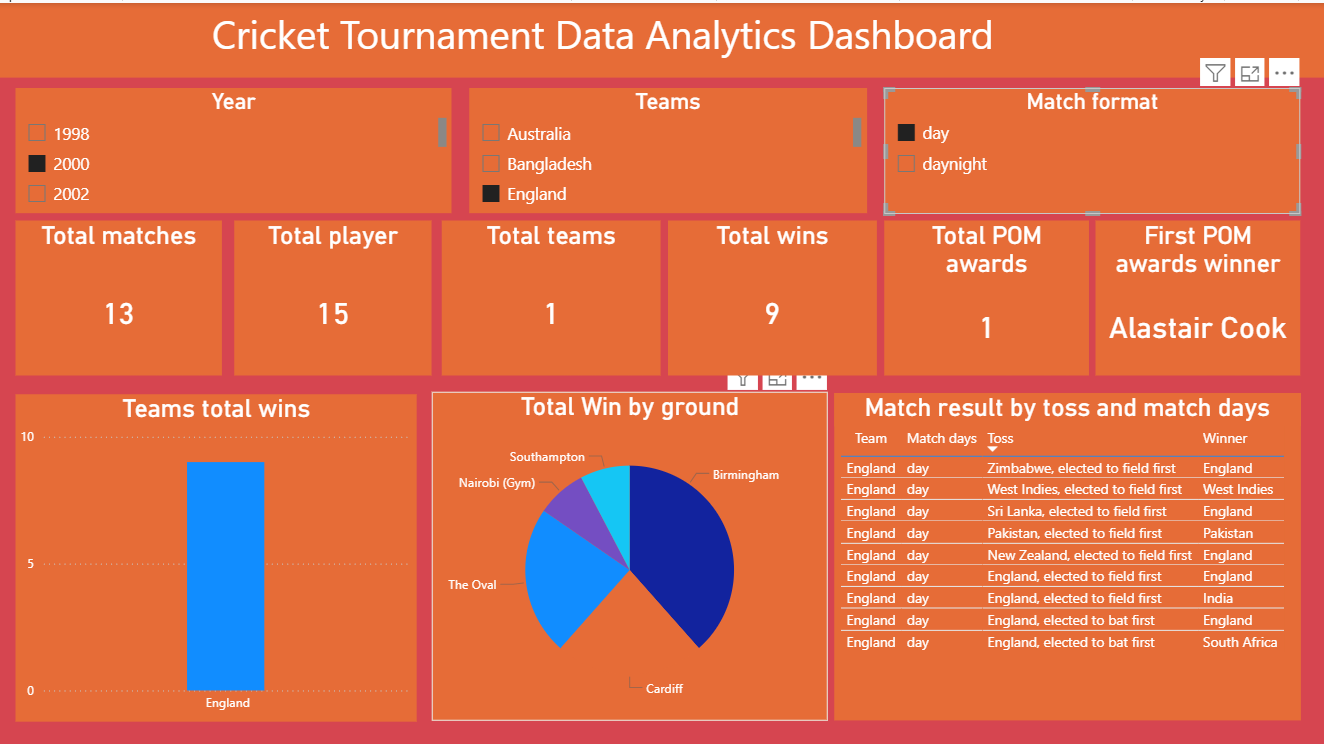

This screenshot's page, from the dashboard's own definition file:
{"tool":"powerbi","page":{"name":"Page 1","canvas":[1280,720],"ordinal":0},"visuals":[{"type":"card","title":"Total matches","fields":{"Values":["all_champions_trophy_matches_results-updated.Total matches"]},"box":[16.9,209.9,199.1,149.6],"z":0},{"type":"card","title":"Total teams","fields":{"Values":["all_champions_trophy_matches_results-updated.Total team"]},"box":[428.3,209.9,211.1,149.6],"z":1000},{"type":"card","title":"Total POM awards","fields":{"Values":["all_champions_trophy_matches_results-updated.Total player of match"]},"box":[855.4,209.9,197.9,149.6],"z":2000},{"type":"card","title":"Total player","fields":{"Values":["all_champions_trophy_matches_results-updated.Total players"]},"box":[228,209.9,190.6,149.6],"z":3000},{"type":"pieChart","title":"Total Win by ground","fields":{"Category":["all_champions_trophy_matches_results-updated.Ground"],"Y":["CountNonNull(all_champions_trophy_matches_results-updated.Winner)"]},"box":[418.6,375.2,382.4,317.3],"z":4000},{"type":"slicer","title":"Teams","fields":{"Values":["all_champions_trophy_players_list.Team"]},"box":[454.8,82,383.6,120.6],"z":5000},{"type":"slicer","title":"Year","fields":{"Values":["all_champions_trophy_players_list.Year"]},"box":[16.9,82,421,120.6],"z":6000},{"type":"textbox","box":[0,0,1280,72.3],"z":7000},{"type":"card","title":"Total wins","fields":{"Values":["all_champions_trophy_matches_results-updated.Total wins"]},"box":[646.7,209.9,201.5,149.6],"z":8000},{"type":"slicer","title":"Match format","fields":{"Values":["all_champions_trophy_matches_results-updated.Match days"]},"box":[855.4,82,401.7,121.9],"z":9000},{"type":"clusteredColumnChart","title":"Teams total wins","fields":{"Y":["all_champions_trophy_matches_results-updated.Total wins"],"Category":["all_champions_trophy_players_list.Team"]},"box":[16.9,377.6,387.3,316.1],"z":10000},{"type":"tableEx","title":"Match result by toss and match days","fields":{"Values":["all_champions_trophy_players_list.Team","all_champions_trophy_matches_results-updated.Match days","all_champions_trophy_matches_results-updated.Toss","all_champions_trophy_matches_results-updated.Winner"]},"box":[807.1,376.4,450,316.1],"z":11000},{"type":"card","title":"First POM awards winner","fields":{"Values":["Min(all_champions_trophy_matches_results-updated.Player of the Match)"]},"box":[1059.3,209.9,197.9,149.6],"z":12000}]}

Visuals, with their boxes in screenshot pixels (x1, y1, x2, y2), scaled from the page's 1280x720 canvas onto the 1324x744 screenshot:
"Total matches" card: {"x1": 17, "y1": 217, "x2": 223, "y2": 371}
"Total teams" card: {"x1": 443, "y1": 217, "x2": 661, "y2": 371}
"Total POM awards" card: {"x1": 885, "y1": 217, "x2": 1090, "y2": 371}
"Total player" card: {"x1": 236, "y1": 217, "x2": 433, "y2": 371}
"Total Win by ground" pieChart: {"x1": 433, "y1": 388, "x2": 829, "y2": 716}
"Teams" slicer: {"x1": 470, "y1": 85, "x2": 867, "y2": 209}
"Year" slicer: {"x1": 17, "y1": 85, "x2": 453, "y2": 209}
textbox: {"x1": 0, "y1": 0, "x2": 1323, "y2": 75}
"Total wins" card: {"x1": 669, "y1": 217, "x2": 877, "y2": 371}
"Match format" slicer: {"x1": 885, "y1": 85, "x2": 1300, "y2": 211}
"Teams total wins" clusteredColumnChart: {"x1": 17, "y1": 390, "x2": 418, "y2": 717}
"Match result by toss and match days" tableEx: {"x1": 835, "y1": 389, "x2": 1300, "y2": 716}
"First POM awards winner" card: {"x1": 1096, "y1": 217, "x2": 1300, "y2": 371}
